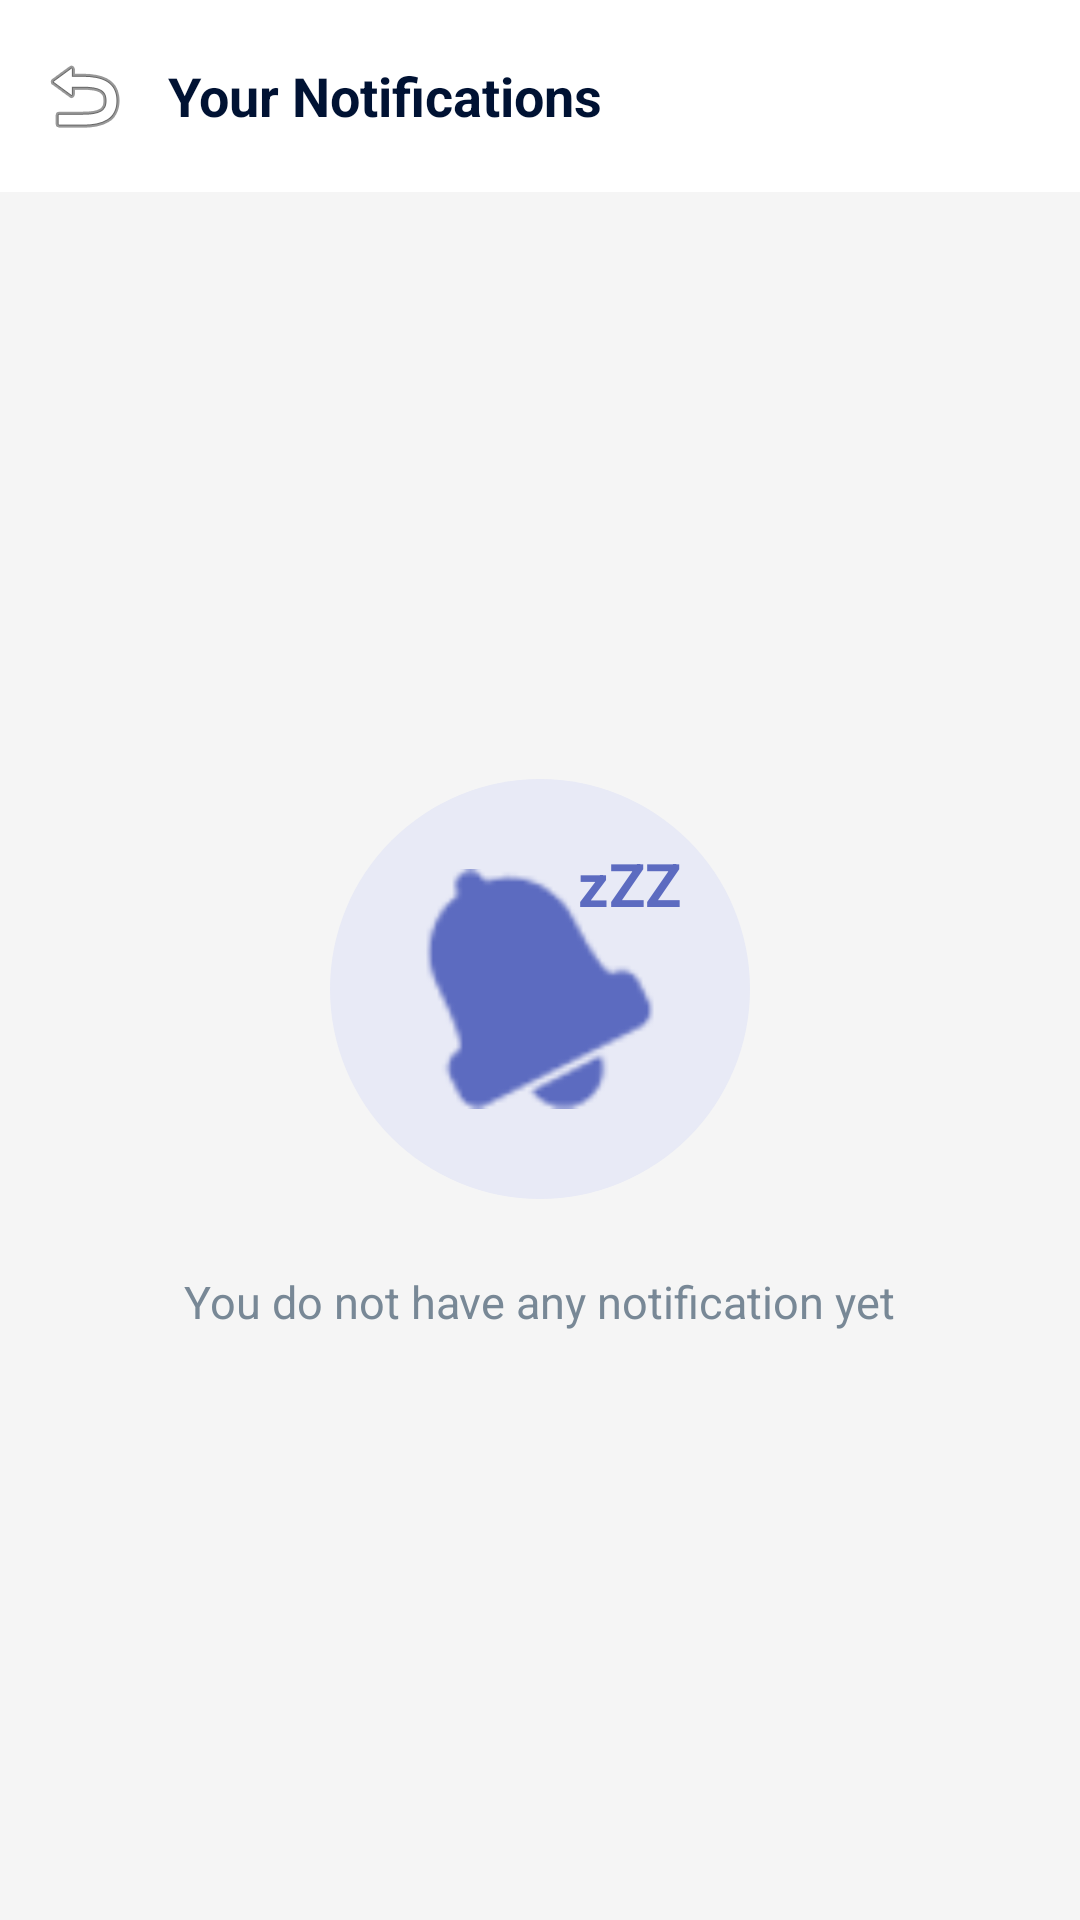

Icons on this 1080 × 1920 Android screen, each with its box as (x1, y1, x2, y2):
popup reminder: (427, 869, 653, 1109)
